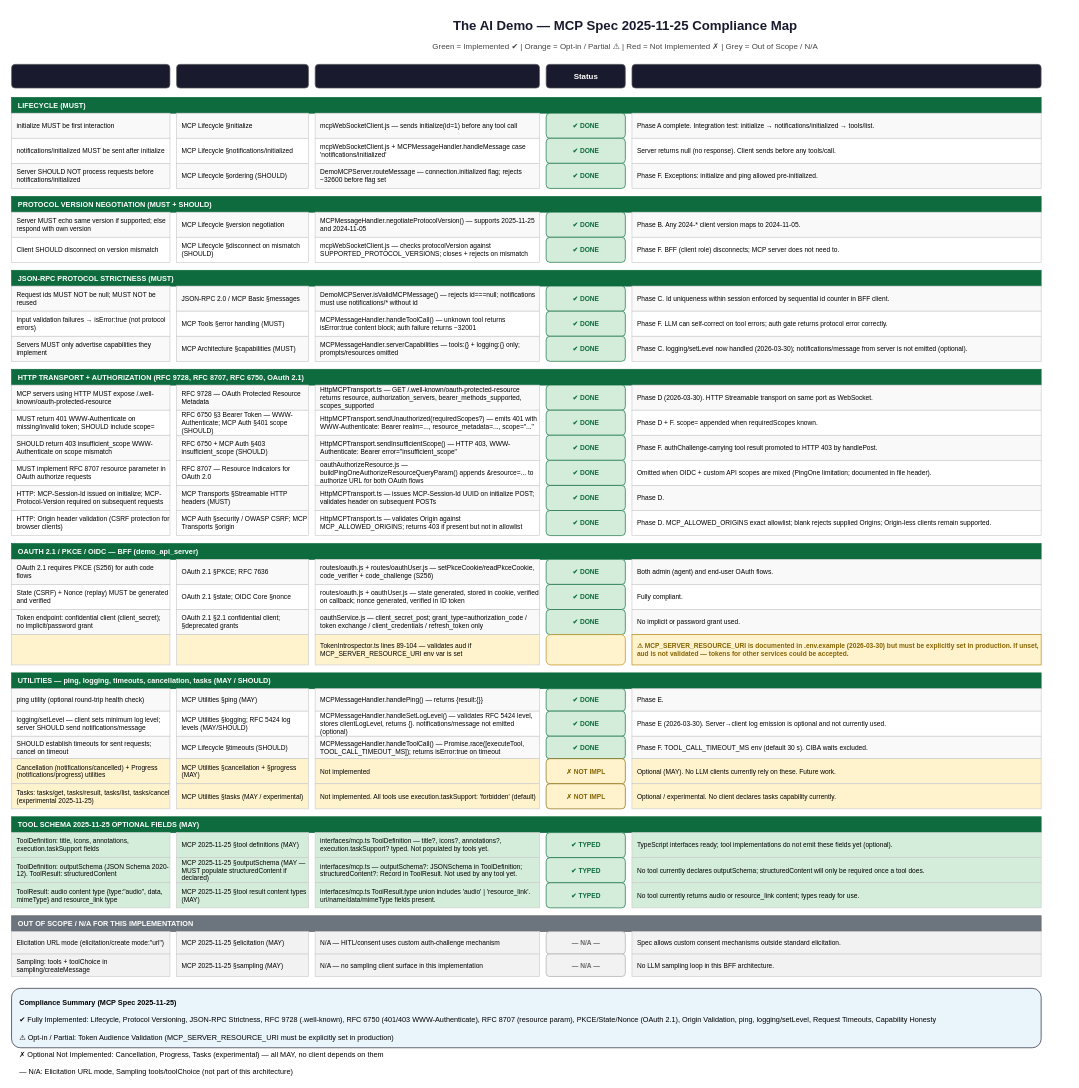
Image size: 1079x1088. Some labels were removed from this diagram. Each missing label, with the centre of its shape:
"Enforced By (Code)" goes at point (427, 76).
"MCP Spec Requirement" goes at point (90, 76).
"Notes / Deficiency" goes at point (836, 76).
"RFC / Standard" goes at point (242, 76).
"RFC 8707 §audience; OAuth 2.0 Token Validation best practice" goes at point (242, 649).
"Token aud claim SHOULD be validated against server resource URI (zero-trust)" goes at point (90, 649).
"⚠ OPT-IN" goes at point (585, 649).
